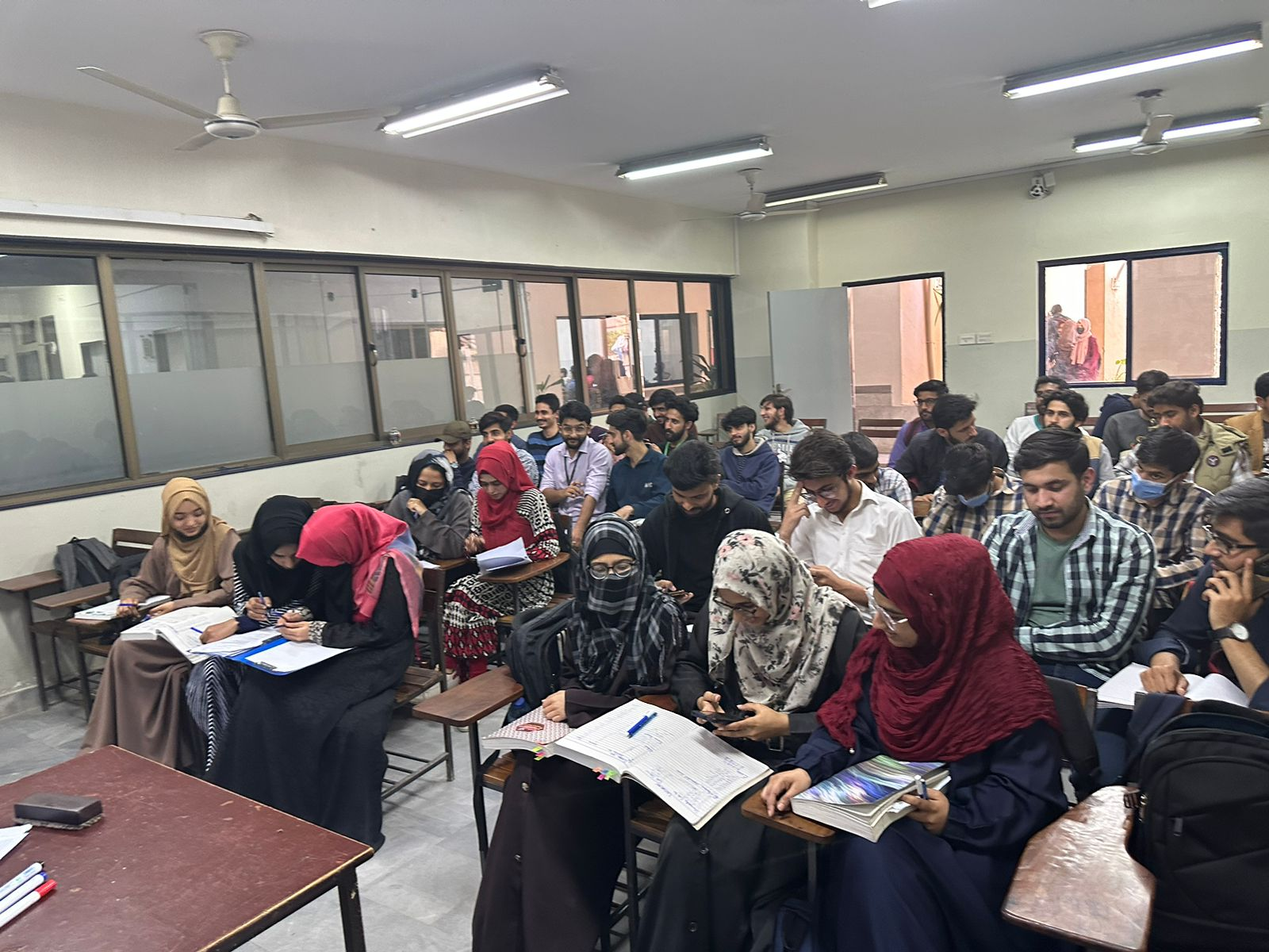non-cheating: (869, 532, 991, 653), (1013, 429, 1097, 529), (709, 527, 791, 628), (577, 515, 651, 602), (1130, 426, 1198, 500), (789, 430, 849, 512), (253, 494, 310, 571), (665, 439, 721, 516), (160, 476, 212, 540), (405, 448, 454, 504), (475, 443, 521, 500), (843, 431, 880, 490), (1042, 391, 1088, 428), (663, 393, 700, 439), (720, 406, 758, 448), (560, 401, 592, 449), (912, 380, 937, 424), (533, 393, 560, 430)
phone: (690, 687, 789, 744), (1206, 553, 1269, 609), (657, 579, 695, 607)
